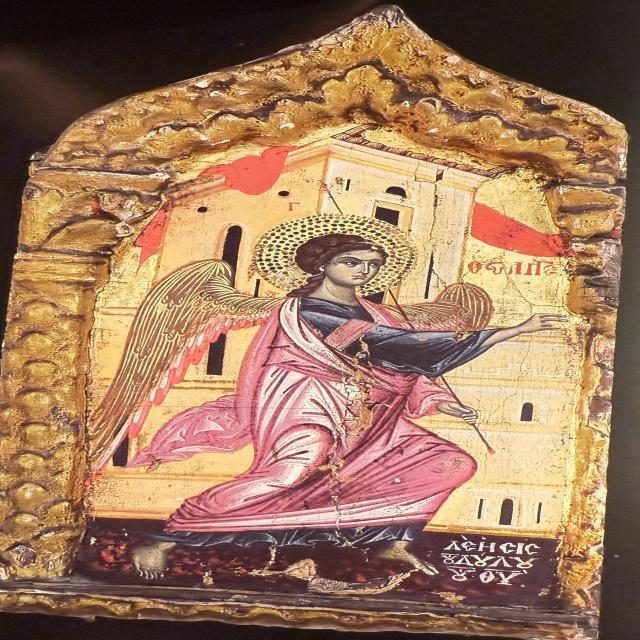angel: (76, 191, 574, 593)
aura: (253, 216, 417, 296)
wing: (86, 258, 280, 484), (397, 277, 497, 333)
